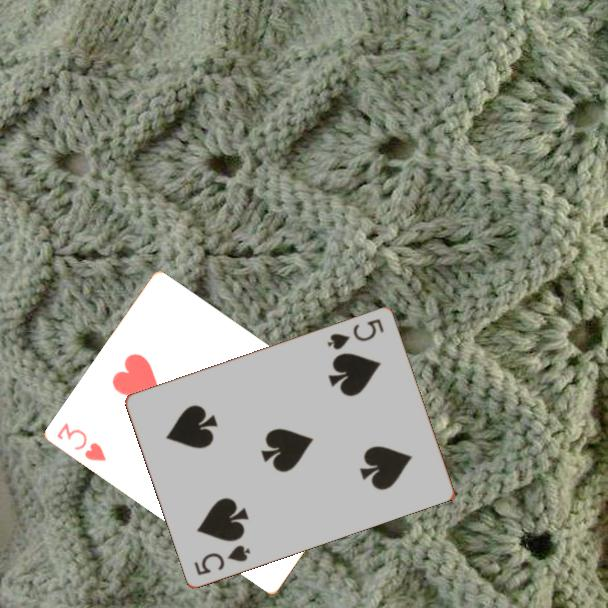h03: (53, 419, 110, 464)
s05: (324, 315, 387, 352), (191, 541, 253, 578)
